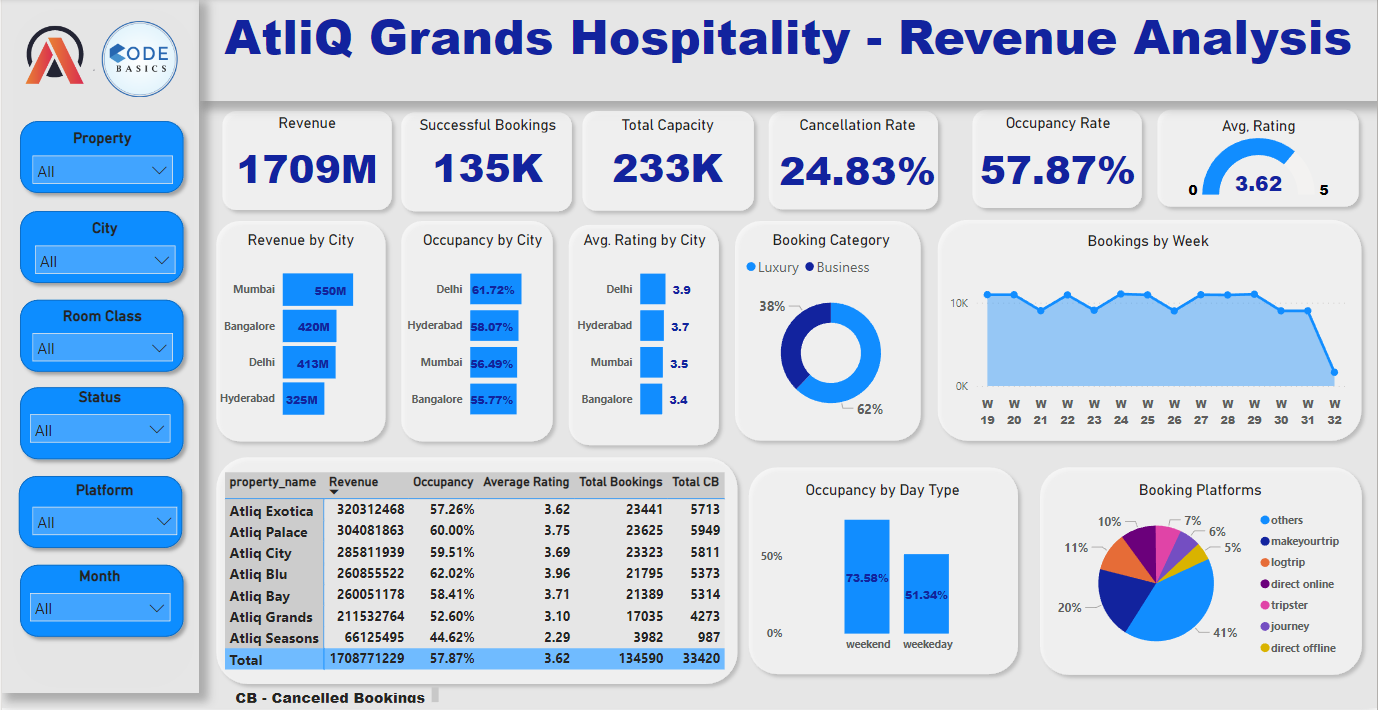

The dashboard page shown, as its layout file describes it:
{"tool":"powerbi","page":{"name":"Page 1","canvas":[1550,800],"ordinal":0},"visuals":[{"type":"shape","box":[0,0,222.1,782.8],"z":0},{"type":"shape","box":[239.3,117.7,208.9,129.6],"z":1000},{"type":"card","title":"Revenue","fields":{"Values":["Base Measure.Revenue"]},"box":[257.9,130.9,171.9,100.5],"z":2000},{"type":"shape","box":[441.7,120.3,210.2,129.6],"z":3000},{"type":"shape","box":[855,118.3,209.2,129.2],"z":4000},{"type":"card","title":"Successful Bookings","fields":{"Values":["Base Measure.Successful_bookings"]},"box":[449.2,132.5,195.8,95],"z":5000},{"type":"card","title":"Cancellation Rate","fields":{"Values":["Base Measure.CR"]},"box":[865.8,132.5,198.3,100.8],"z":6000},{"type":"shape","box":[232.5,242.4,208.5,266.3],"z":7000},{"type":"clusteredBarChart","title":"Revenue by City","fields":{"Y":["Base Measure.Revenue"],"Category":["updated_hotels.city"]},"box":[239.5,262.1,194.5,229.7],"z":8000},{"type":"shape","box":[441,242.4,188.8,266.3],"z":9000},{"type":"shape","box":[1085,117.5,209.2,129.2],"z":10000},{"type":"card","title":"Occupancy Rate","fields":{"Values":["Base Measure.Occupancy"]},"box":[1085,130.8,210.8,100.8],"z":11000},{"type":"clusteredBarChart","title":"Occupancy by City        ","fields":{"Y":["Base Measure.Occupancy"],"Category":["updated_hotels.city"]},"box":[450.9,262.1,181.8,229.7],"z":12000},{"type":"shape","box":[1294.2,117.5,245,127.5],"z":13000},{"type":"gauge","title":"Avg, Rating","fields":{"Y":["Base Measure.Average Rating"]},"box":[1308.3,133.3,217.5,97.5],"z":14000},{"type":"shape","box":[629.9,246.6,187.4,266.3],"z":15000},{"type":"clusteredBarChart","title":"Avg. Rating by City","fields":{"Y":["Base Measure.Average Rating"],"Category":["updated_hotels.city"]},"box":[642.5,262.1,163.5,229.7],"z":16000},{"type":"shape","box":[1046,240.7,495.9,267.1],"z":17000},{"type":"stackedAreaChart","title":"Bookings by Week ","fields":{"Category":["dim_date.week no"],"Y":["Base Measure.Total Bookings"]},"box":[1064.5,263.1,456.2,228.8],"z":18000},{"type":"shape","box":[232.5,508.7,605.9,273.4],"z":19000},{"type":"pivotTable","fields":{"Rows":["updated_hotels.property_name"],"Values":["Base Measure.Revenue","Base Measure.Occupancy","Base Measure.Average Rating","Base Measure.Total Bookings","Base Measure.Total CB"]},"box":[246.6,529.8,593.2,257.9],"z":20000},{"type":"shape","box":[1161.1,520,380.5,252.2],"z":21000},{"type":"pieChart","title":"Booking Platforms","fields":{"Category":["fact_bookings.booking_platform"],"Y":["CountNonNull(fact_bookings.booking_id)"]},"box":[1179.4,543.9,342.4,212.8],"z":22000},{"type":"shape","box":[832.8,520,321.3,250.8],"z":23000},{"type":"columnChart","title":"Occupancy by Day Type","fields":{"Y":["Base Measure.Occupancy"],"Category":["dim_date.day_type"]},"box":[849.7,543.9,286,202.9],"z":24000},{"type":"shape","box":[10.6,629.4,202.3,99.2],"z":25000},{"type":"slicer","title":"Month","fields":{"Values":["dim_date.mm yy"]},"box":[21.2,641.3,178.5,75.4],"z":26000},{"type":"shape","box":[11.9,231.4,202.3,99.2],"z":27000},{"type":"slicer","title":"City","fields":{"Values":["updated_hotels.city"]},"box":[26.4,249.9,178.5,63.5],"z":28000},{"type":"shape","box":[10.6,429.8,202.3,99.2],"z":29000},{"type":"shape","box":[11.9,129.6,202.3,99.2],"z":30000},{"type":"slicer","title":"Property ","fields":{"Values":["updated_hotels.property_name"]},"box":[23.8,148.1,178.5,63.5],"z":31000},{"type":"slicer","title":"Status","fields":{"Values":["fact_bookings.booking_status"]},"box":[21.2,440.3,178.5,63.5],"z":32000},{"type":"shape","box":[9.3,530.2,202.3,99.2],"z":33000},{"type":"slicer","title":"Platform","fields":{"Values":["fact_bookings.booking_platform"]},"box":[23.8,543.5,183.8,88.6],"z":34000},{"type":"shape","box":[817.2,242,227.4,265.8],"z":35000},{"type":"donutChart","title":"Booking Category","fields":{"Category":["updated_hotels.category"],"Y":["CountNonNull(fact_bookings.booking_id)"]},"box":[833.1,261.8,203.6,224.8],"z":36000},{"type":"textbox","box":[222.1,0,1327.6,116.4],"z":37000},{"type":"image","box":[0,10.6,111.1,105.8],"z":38000},{"type":"image","box":[96.5,21.2,115,95.2],"z":39000},{"type":"shape","box":[11.9,330.6,202.3,99.2],"z":40000},{"type":"slicer","title":"Room Class","fields":{"Values":["dim_rooms.room_class"]},"box":[23.8,347.8,178.5,63.5],"z":41000},{"type":"shape","box":[645,118.3,210.8,130],"z":42000},{"type":"card","title":"Total Capacity","fields":{"Values":["Base Measure.Total_Capacity"]},"box":[652.5,132.5,195.8,95],"z":43000},{"type":"textbox","box":[257.9,772.2,239.3,27.8],"z":44000}]}

Visuals, with their boxes in screenshot pixels (x1, y1, x2, y2), scaled from the page's 1550x800 canvas onto the 1378x710 screenshot:
shape: 0/0/197/695
shape: 213/104/398/219
"Revenue" card: 229/116/382/205
shape: 393/107/580/222
shape: 760/105/946/220
"Successful Bookings" card: 399/118/573/202
"Cancellation Rate" card: 770/118/946/207
shape: 207/215/392/451
"Revenue by City" clusteredBarChart: 213/233/386/436
shape: 392/215/560/451
shape: 965/104/1151/219
"Occupancy Rate" card: 965/116/1152/206
"Occupancy by City        " clusteredBarChart: 401/233/562/436
shape: 1151/104/1368/217
"Avg, Rating" gauge: 1163/118/1356/205
shape: 560/219/727/455
"Avg. Rating by City" clusteredBarChart: 571/233/717/436
shape: 930/214/1371/451
"Bookings by Week " stackedAreaChart: 946/234/1352/437
shape: 207/451/745/694
pivotTable - updated_hotels.property_name x Base Measure.Revenue: 219/470/747/699
shape: 1032/462/1371/685
"Booking Platforms" pieChart: 1049/483/1353/672
shape: 740/462/1026/684
"Occupancy by Day Type" columnChart: 755/483/1010/663
shape: 9/559/189/647
"Month" slicer: 19/569/178/636
shape: 11/205/190/293
"City" slicer: 23/222/182/278
shape: 9/381/189/469
shape: 11/115/190/203
"Property " slicer: 21/131/180/188
"Status" slicer: 19/391/178/447
shape: 8/471/188/559
"Platform" slicer: 21/482/185/561
shape: 727/215/929/451
"Booking Category" donutChart: 741/232/922/432
textbox: 197/0/1377/103
image: 0/9/99/103
image: 86/19/188/103
shape: 11/293/190/381
"Room Class" slicer: 21/309/180/365
shape: 573/105/761/220
"Total Capacity" card: 580/118/754/202
textbox: 229/685/442/709
